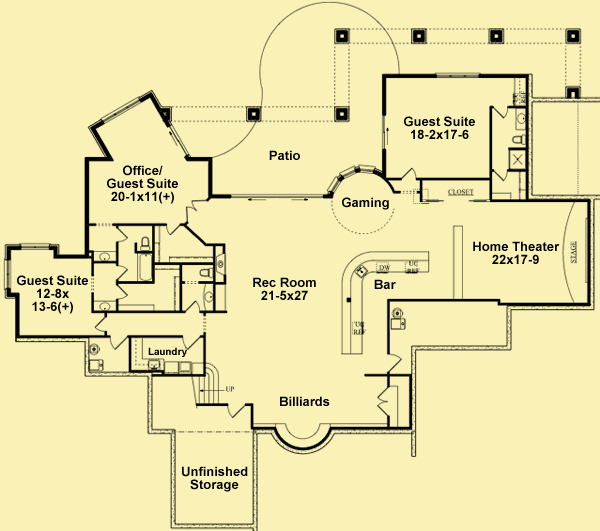door: (375, 387, 391, 415), (109, 334, 131, 351), (401, 166, 418, 183), (387, 352, 402, 371), (494, 166, 509, 183), (492, 106, 509, 121), (114, 263, 127, 279), (94, 316, 107, 331), (115, 287, 128, 301)
large_sink: (509, 132, 526, 146), (195, 268, 215, 279), (136, 234, 149, 250)
small_sink: (90, 250, 116, 262), (203, 284, 214, 310), (514, 107, 526, 130), (93, 300, 117, 311)
stairs: (193, 364, 234, 407)
tub: (136, 252, 154, 283)
windows: (434, 72, 482, 80), (21, 242, 50, 253), (4, 257, 12, 289)
